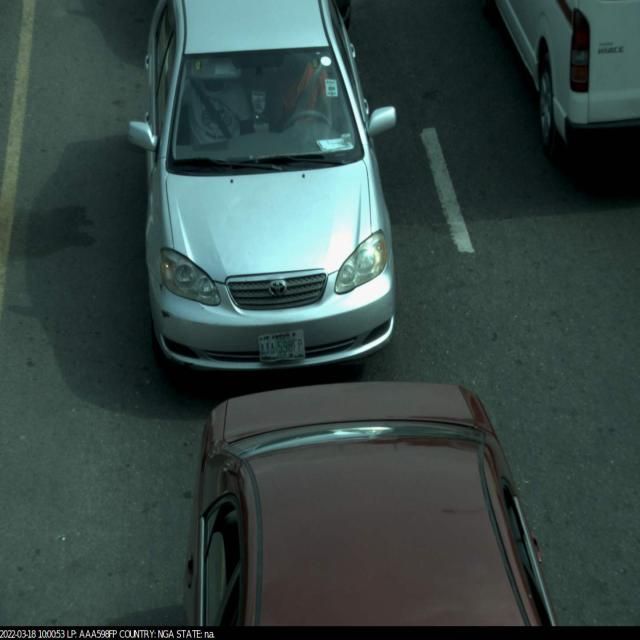windshield: (158, 37, 370, 179)
